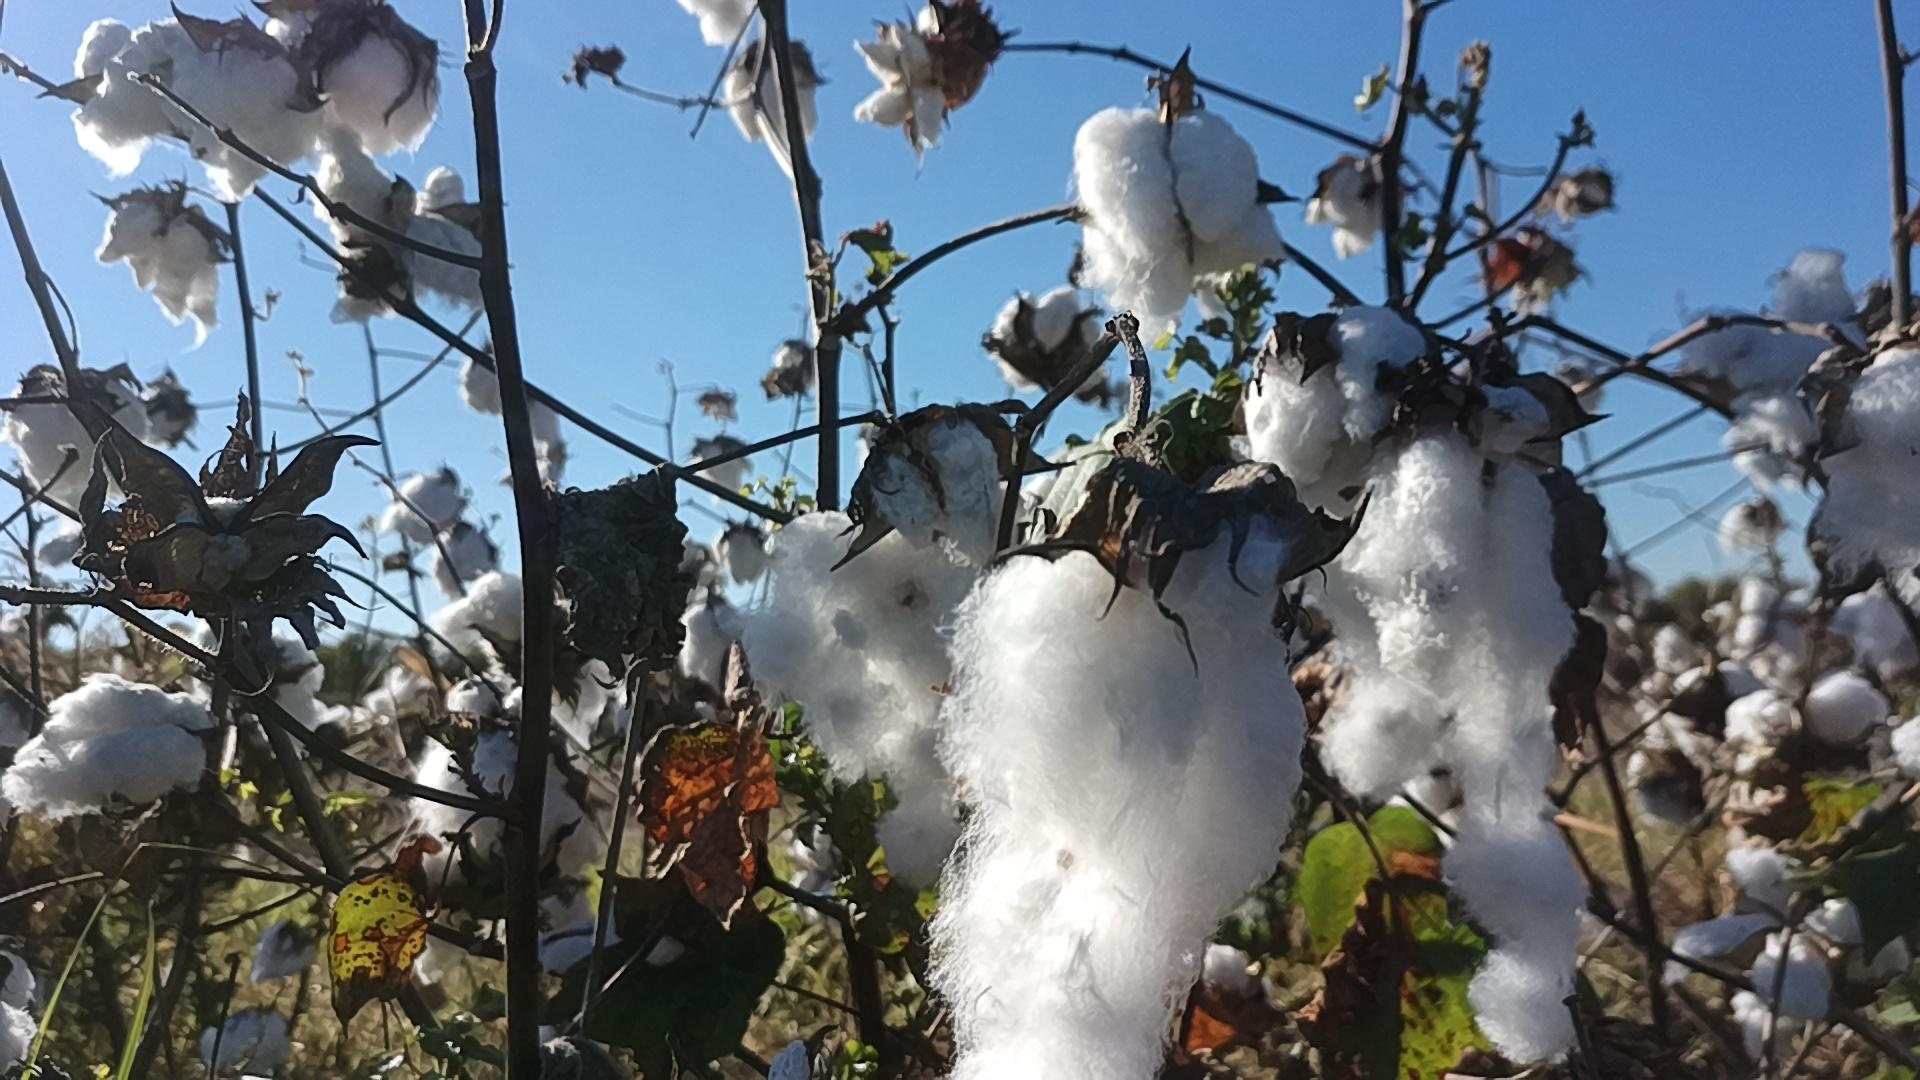cotton_ready: (926, 521, 1303, 1080), (1296, 438, 1589, 1064), (746, 510, 960, 884), (1072, 104, 1288, 323), (1667, 841, 1909, 1029), (1245, 302, 1432, 525), (80, 20, 314, 190), (406, 731, 600, 901), (0, 670, 224, 816), (316, 140, 488, 302), (1815, 344, 1920, 592), (268, 4, 438, 154), (870, 421, 1006, 570), (5, 376, 153, 504), (98, 200, 220, 336), (195, 624, 322, 740), (1726, 670, 1887, 758), (553, 600, 638, 745), (533, 894, 684, 976), (990, 289, 1105, 394), (75, 22, 153, 170), (853, 34, 944, 149), (1687, 314, 1818, 393), (1427, 386, 1559, 464), (1771, 248, 1869, 343), (727, 53, 823, 140), (440, 571, 524, 641), (0, 951, 38, 1069), (678, 0, 750, 45)
